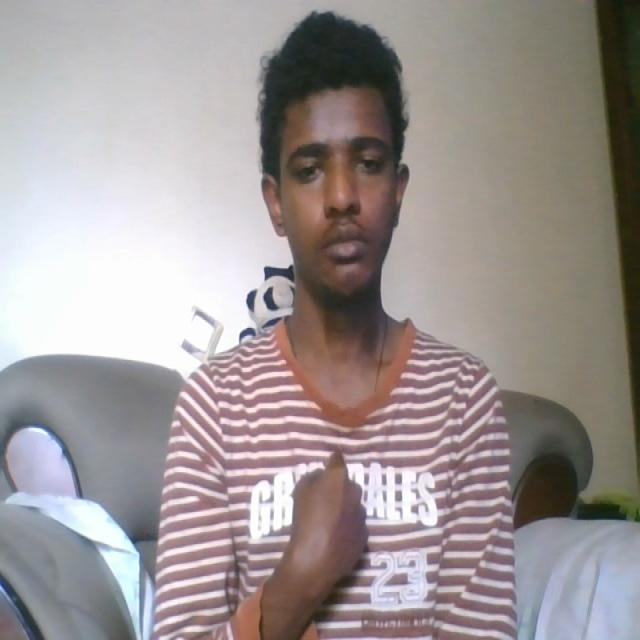ene: (273, 440, 381, 611)
